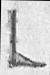D58: (4, 0, 46, 74)
